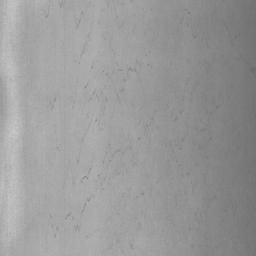Silk spot: (80, 197, 91, 214), (250, 67, 256, 78)
